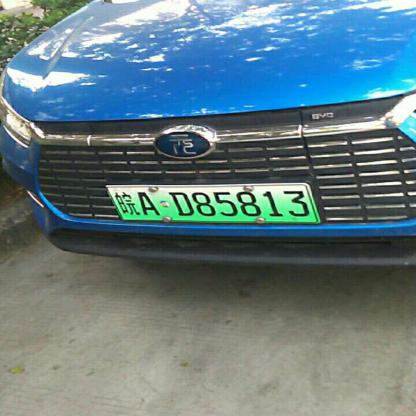lp: (107, 184, 318, 222)
